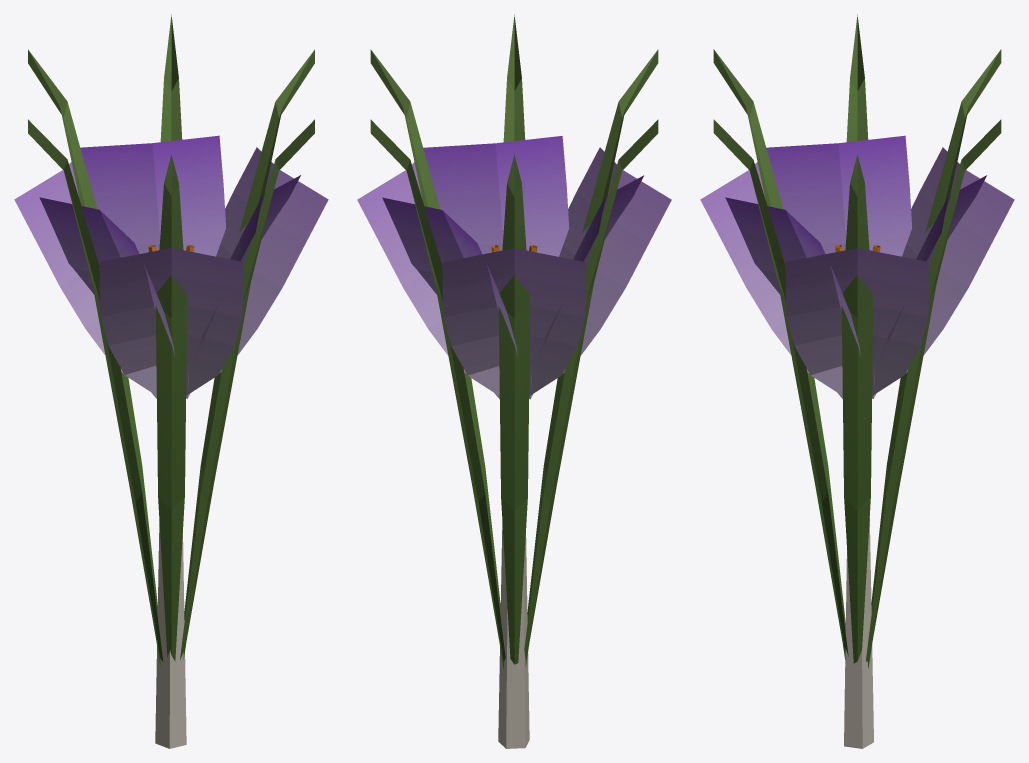
File: krokus.glb
3 renders of one model, left to right at view 1: azimuth 30°, elevation 25°; view 2: azimuth 150°, elevation 25°; view 3: azimuth 270°, elevation 25°, orthographic.
Parts seen in each view (by area): view 1: krokus; view 2: krokus; view 3: krokus.
Boxes of the visible parts, bbox=[...] form: krokus: bbox=[14, 14, 328, 748]; krokus: bbox=[357, 14, 671, 748]; krokus: bbox=[700, 14, 1014, 748].
Bounding box in the file's own units: 0.06 × 0.1313 × 0.0569.
